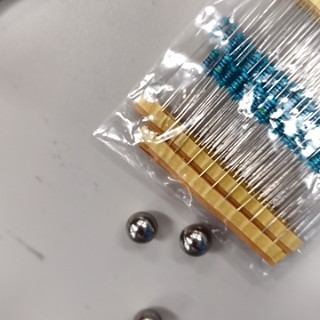ironball: (173, 215, 215, 263), (124, 206, 156, 244)
